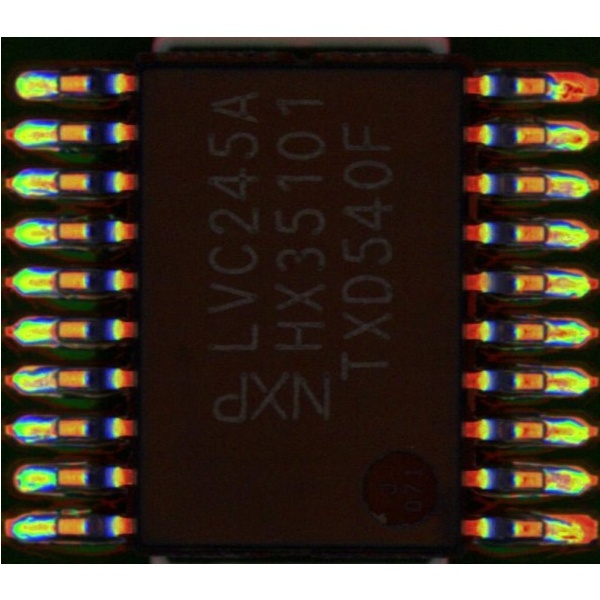Bad_podu: (523, 324, 566, 338), (34, 275, 75, 288), (528, 472, 565, 485), (34, 224, 71, 237), (33, 176, 70, 189), (37, 323, 73, 336), (530, 226, 563, 240), (529, 276, 567, 288), (527, 424, 560, 437), (533, 130, 564, 143), (530, 523, 560, 536), (39, 127, 74, 138), (37, 519, 69, 531), (36, 423, 70, 434), (530, 376, 561, 388), (530, 178, 559, 190), (38, 373, 65, 384)
